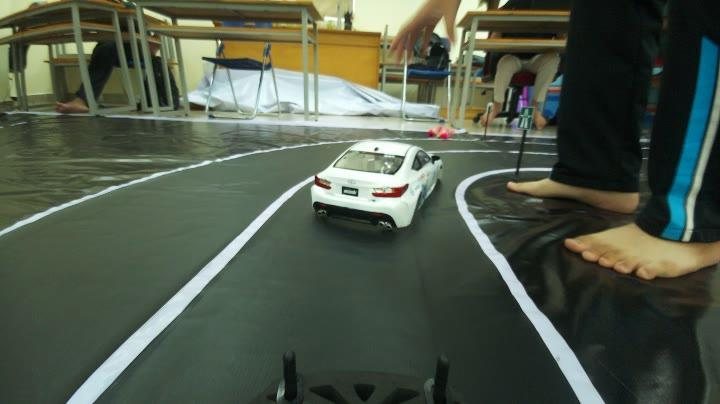car: (320, 134, 441, 240)
highway_entry: (514, 102, 535, 131)
